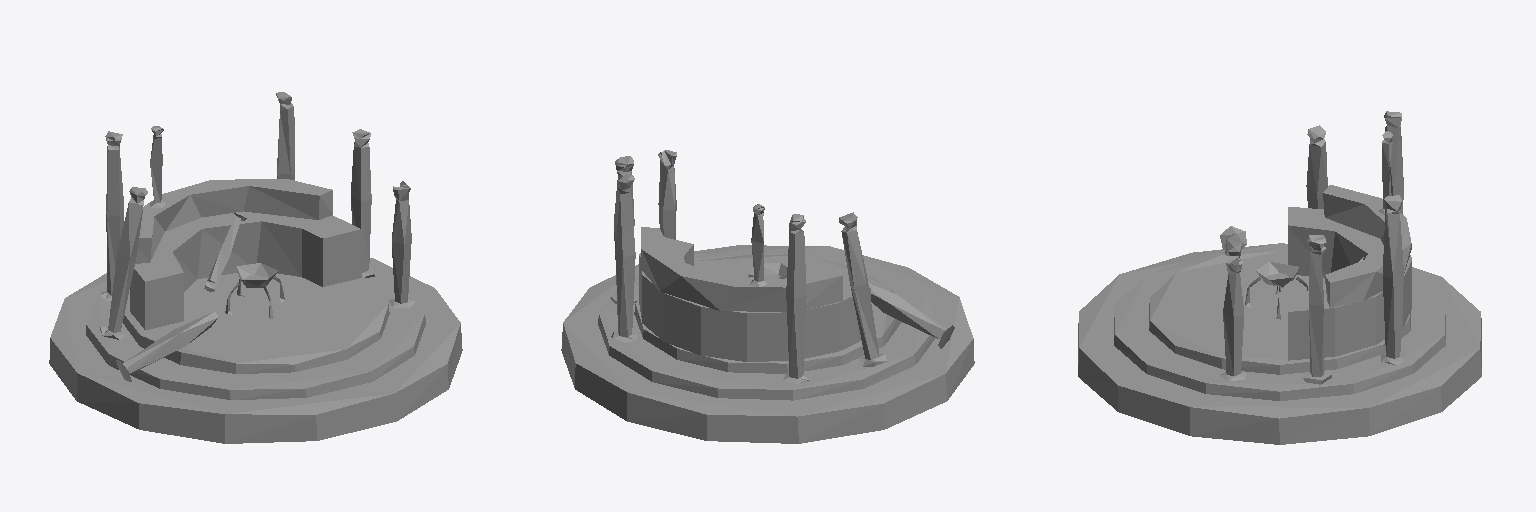
The model's file is ruinsTempleRuin1.obj.
The picture shows the model from 3 angles: view 1: azimuth 30°, elevation 25°; view 2: azimuth 150°, elevation 25°; view 3: azimuth 270°, elevation 25°; orthographic projection.
Parts seen in each view (by area): view 1: TempleRuinTwo300; view 2: TempleRuinTwo300; view 3: TempleRuinTwo300.
Part boxes in pixels (x1,y1,x2,y2): TempleRuinTwo300: (49, 92, 462, 443); TempleRuinTwo300: (561, 150, 974, 443); TempleRuinTwo300: (1078, 111, 1481, 444).
Size of the model in its own units: 1792 by 968 by 1747.